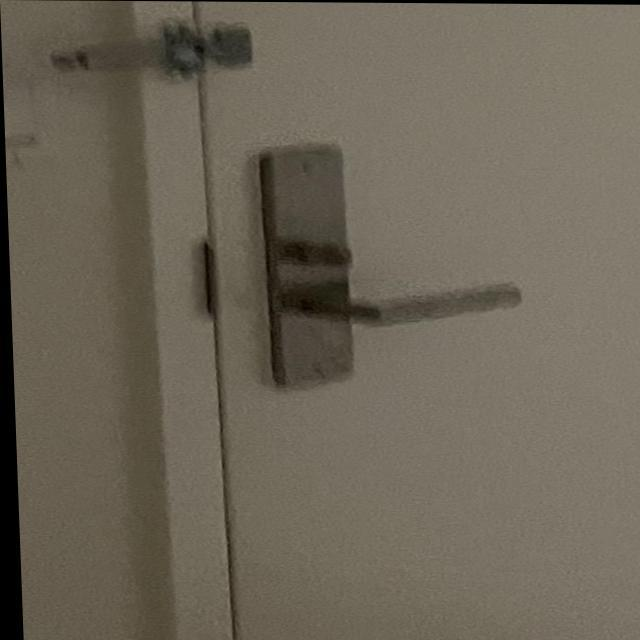door_handle: (264, 270, 539, 334)
